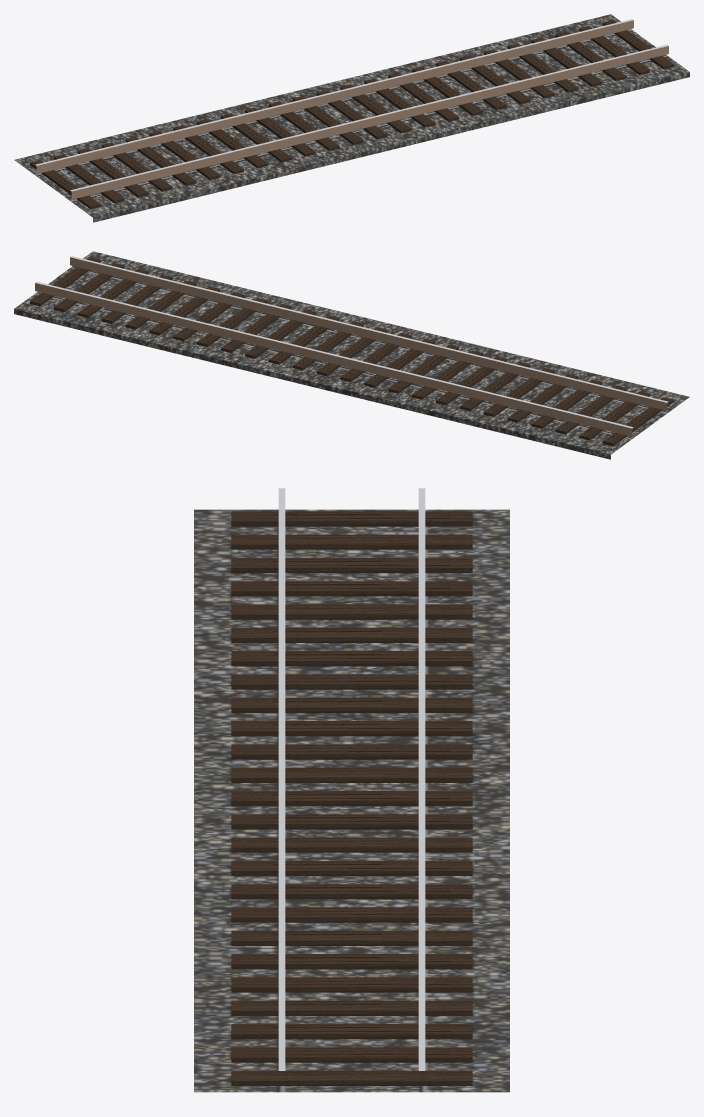
The model's file is kolej_rovna_drevo.glb.
The picture shows the model from 3 angles, top to bottom: view 1: azimuth 30°, elevation 25°; view 2: azimuth 150°, elevation 25°; view 3: azimuth 270°, elevation 25°; orthographic projection. The views are drawn at different scales.
Parts seen in each view (by area): view 1: kolej_rovna_drevo; view 2: kolej_rovna_drevo; view 3: kolej_rovna_drevo.
Boxes of the visible parts, <box> form: kolej_rovna_drevo: <box>14,14,689,222</box>; kolej_rovna_drevo: <box>14,251,689,459</box>; kolej_rovna_drevo: <box>194,488,509,1092</box>.
Bounding box in the file's own units: 14.84 × 0.373 × 3.4.
4 materials, 2 textured.
